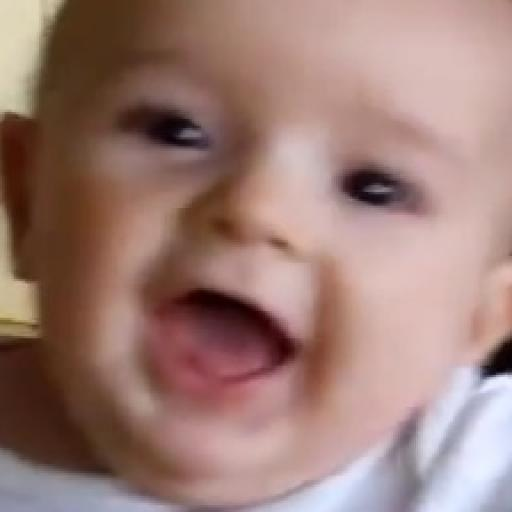Autism: (20, 0, 502, 512)
